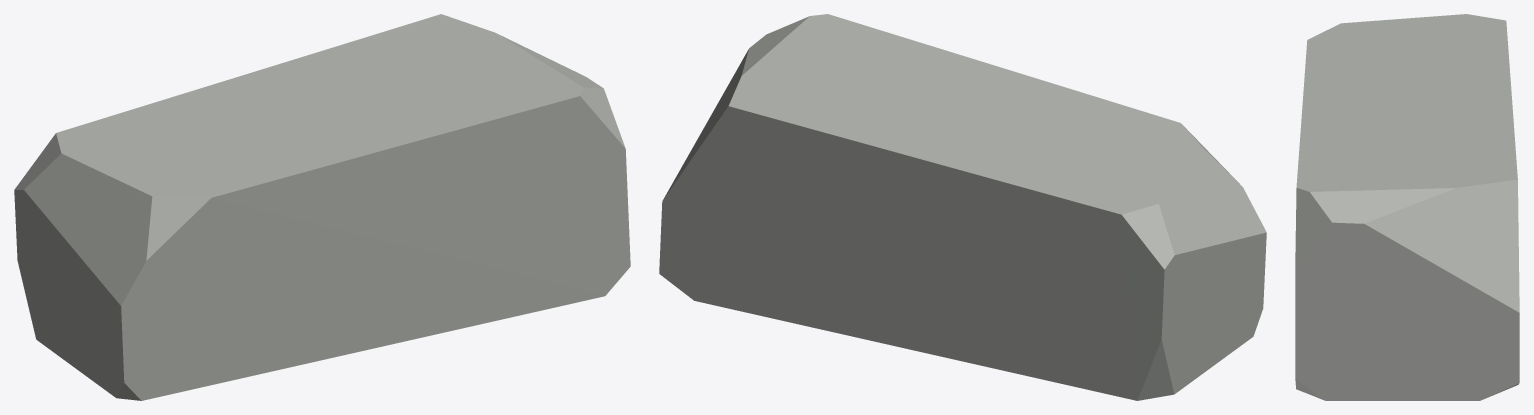
Rendered from Rock_Square_l_10.fbx.
3 renders of one model, left to right at view 1: azimuth 30°, elevation 25°; view 2: azimuth 150°, elevation 25°; view 3: azimuth 270°, elevation 25°, orthographic. The views are drawn at different scales.
Visible parts, largest first — view 1: Rock_Square_l_10; view 2: Rock_Square_l_10; view 3: Rock_Square_l_10.
Part boxes in pixels (bbox=[...]): Rock_Square_l_10: bbox=[14, 14, 630, 400]; Rock_Square_l_10: bbox=[659, 14, 1266, 400]; Rock_Square_l_10: bbox=[1295, 14, 1519, 400].
Size of the model in its own units: 348 by 136 by 145.
